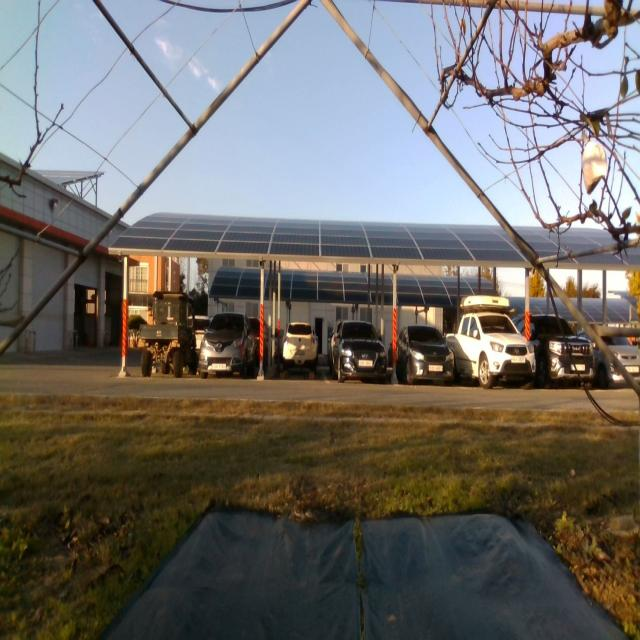pearbags: (582, 143, 607, 195)
